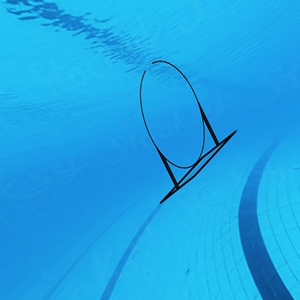circle: (138, 59, 239, 205)
